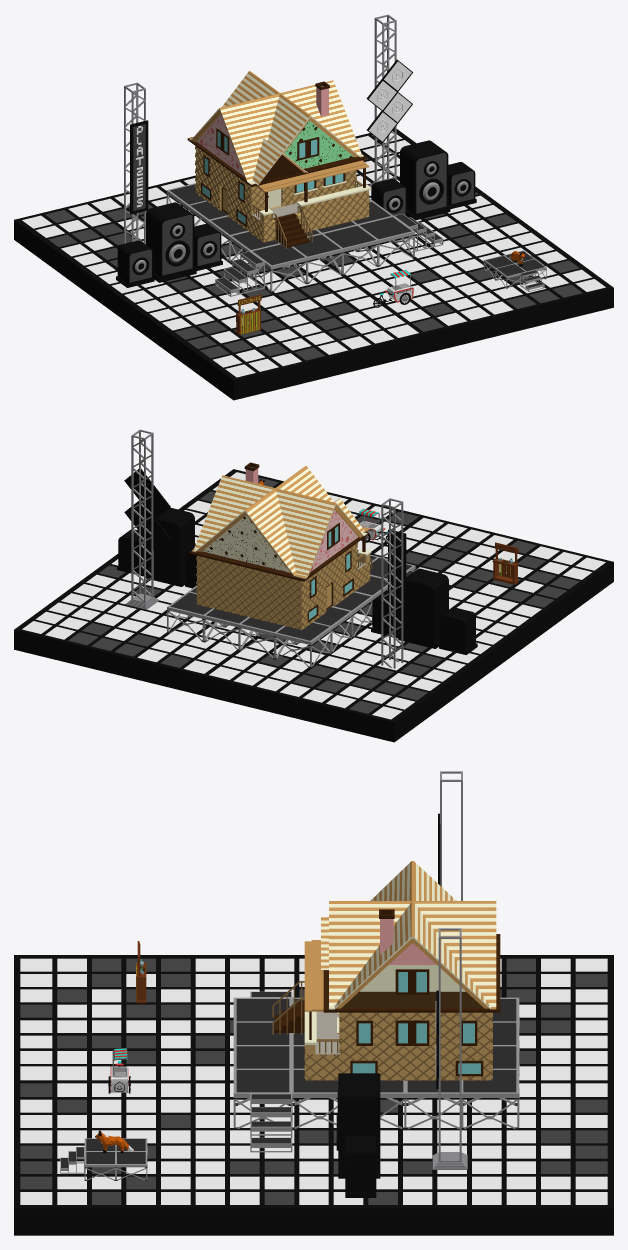
3 views of the same model, one above another, from view 1: azimuth 30°, elevation 25°; view 2: azimuth 150°, elevation 25°; view 3: azimuth 270°, elevation 25° (orthographic). The views are drawn at different scales.
Parts seen in each view (by area): view 1: Cube.008, Cube.1102, OBJRANDOM_LEMONADE_STAND, VEHICLES_SNOWBAL_BIKE; view 2: Cube.008, Cube.1102, OBJRANDOM_LEMONADE_STAND, VEHICLES_SNOWBAL_BIKE; view 3: Cube.008, Cube.1102, VEHICLES_SNOWBAL_BIKE.
Boxes of the visible parts, x1,y1,x2,y2 form: Cube.008: (14, 14, 613, 400); Cube.1102: (187, 71, 371, 248); OBJRANDOM_LEMONADE_STAND: (235, 294, 261, 335); VEHICLES_SNOWBAL_BIKE: (373, 270, 413, 307); Cube.008: (14, 429, 613, 742); Cube.1102: (189, 462, 372, 629); OBJRANDOM_LEMONADE_STAND: (492, 542, 518, 584); VEHICLES_SNOWBAL_BIKE: (359, 508, 387, 543); Cube.008: (14, 771, 613, 1235); Cube.1102: (272, 861, 500, 1080); VEHICLES_SNOWBAL_BIKE: (108, 1048, 130, 1093).
Size of the model in its own units: 4000 by 1972 by 4000.
Materials: 43 (2 with a texture image).
